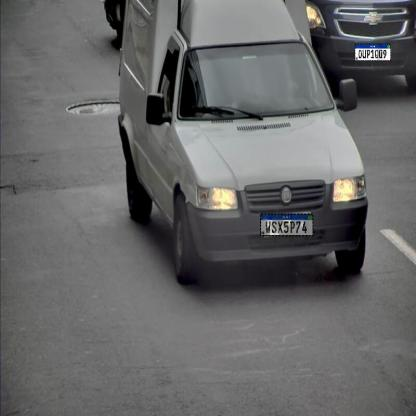PlacaM: (260, 214, 314, 236), (355, 44, 391, 61)
